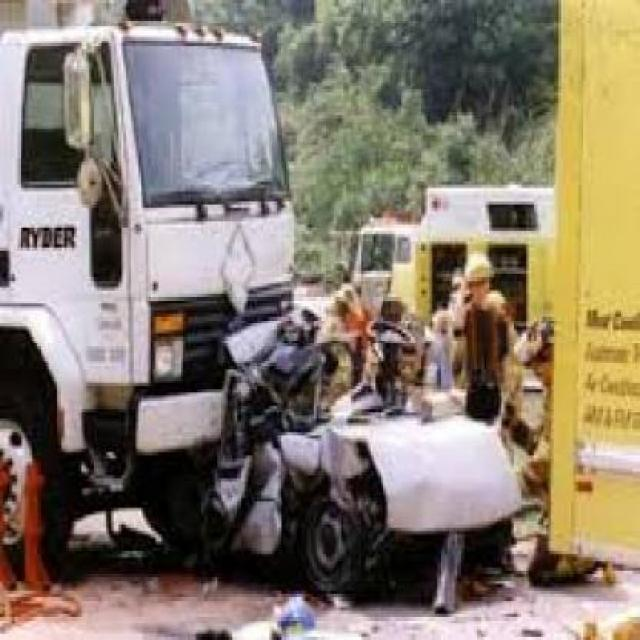accident: (14, 7, 604, 619)
